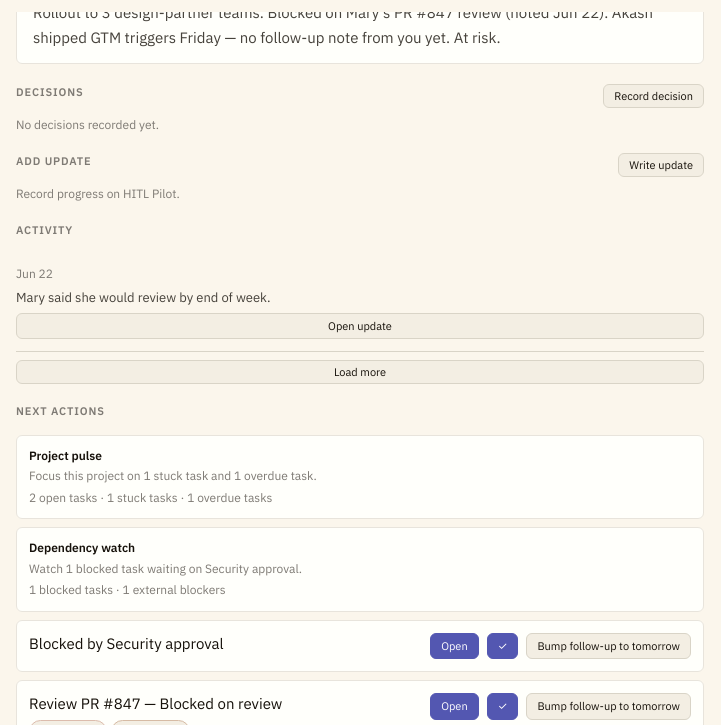
it: V5ThreadDetail › loads more activity updates when detail preview is truncated
This screenshot has width=721, height=725.
(page scrolled)
What coordinates should you click on to do the following:
click the button "Load more"
I would click on:
 (360, 372)
Its box is [16, 360, 704, 384].
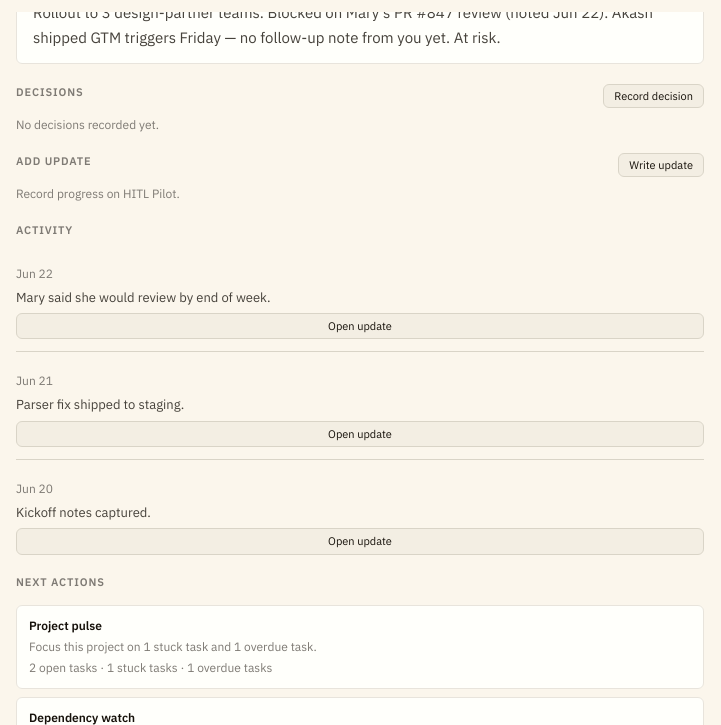
Expected: the text "Parser fix shipped to staging." is shown, [16, 396, 184, 414]
Expected: the button "Load more" is gone
